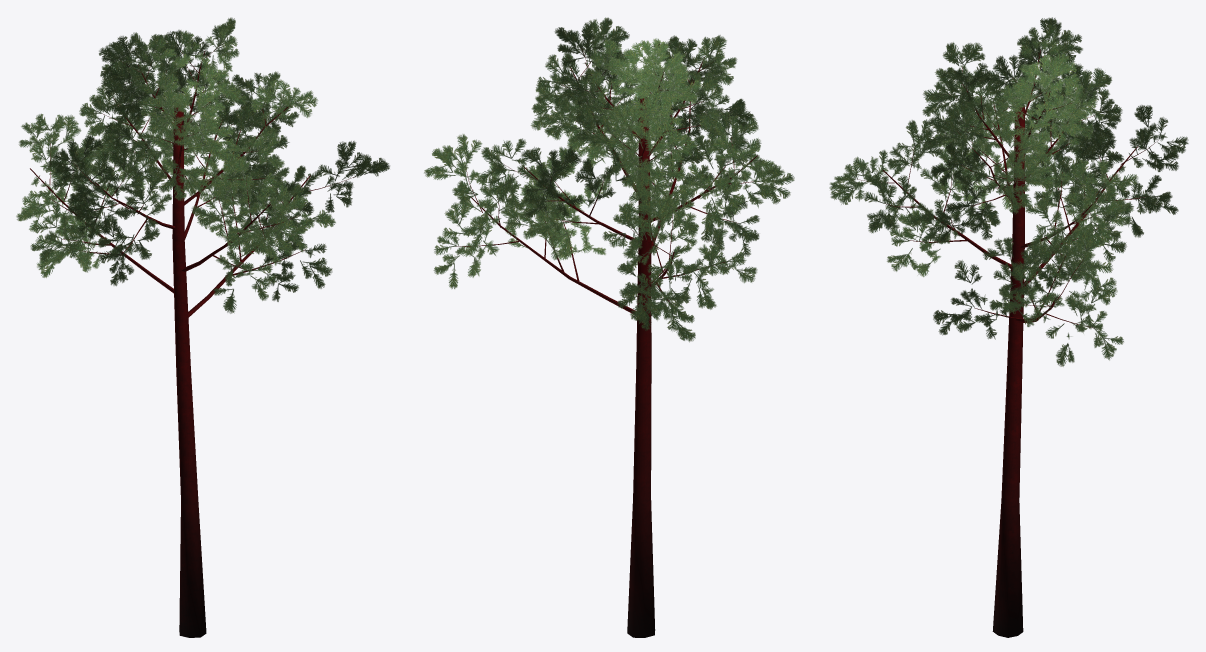
File: pine_open_v02_LOD1.glb
3 views of the same model, side by side, from view 1: azimuth 30°, elevation 25°; view 2: azimuth 150°, elevation 25°; view 3: azimuth 270°, elevation 25° (orthographic). The views are drawn at different scales.
Parts seen in each view (by area): view 1: pine_open_v02_LOD1; view 2: pine_open_v02_LOD1; view 3: pine_open_v02_LOD1.
Part boxes in pixels (<box>): pine_open_v02_LOD1: <box>16,17,389,637</box>; pine_open_v02_LOD1: <box>424,17,794,637</box>; pine_open_v02_LOD1: <box>829,17,1188,637</box>.
Size of the model in its own units: 13.56 by 22.81 by 12.72.
Materials: 2 (2 with a texture image).
